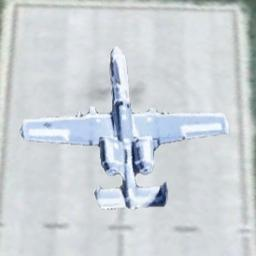Airplane: (19, 42, 238, 210)
